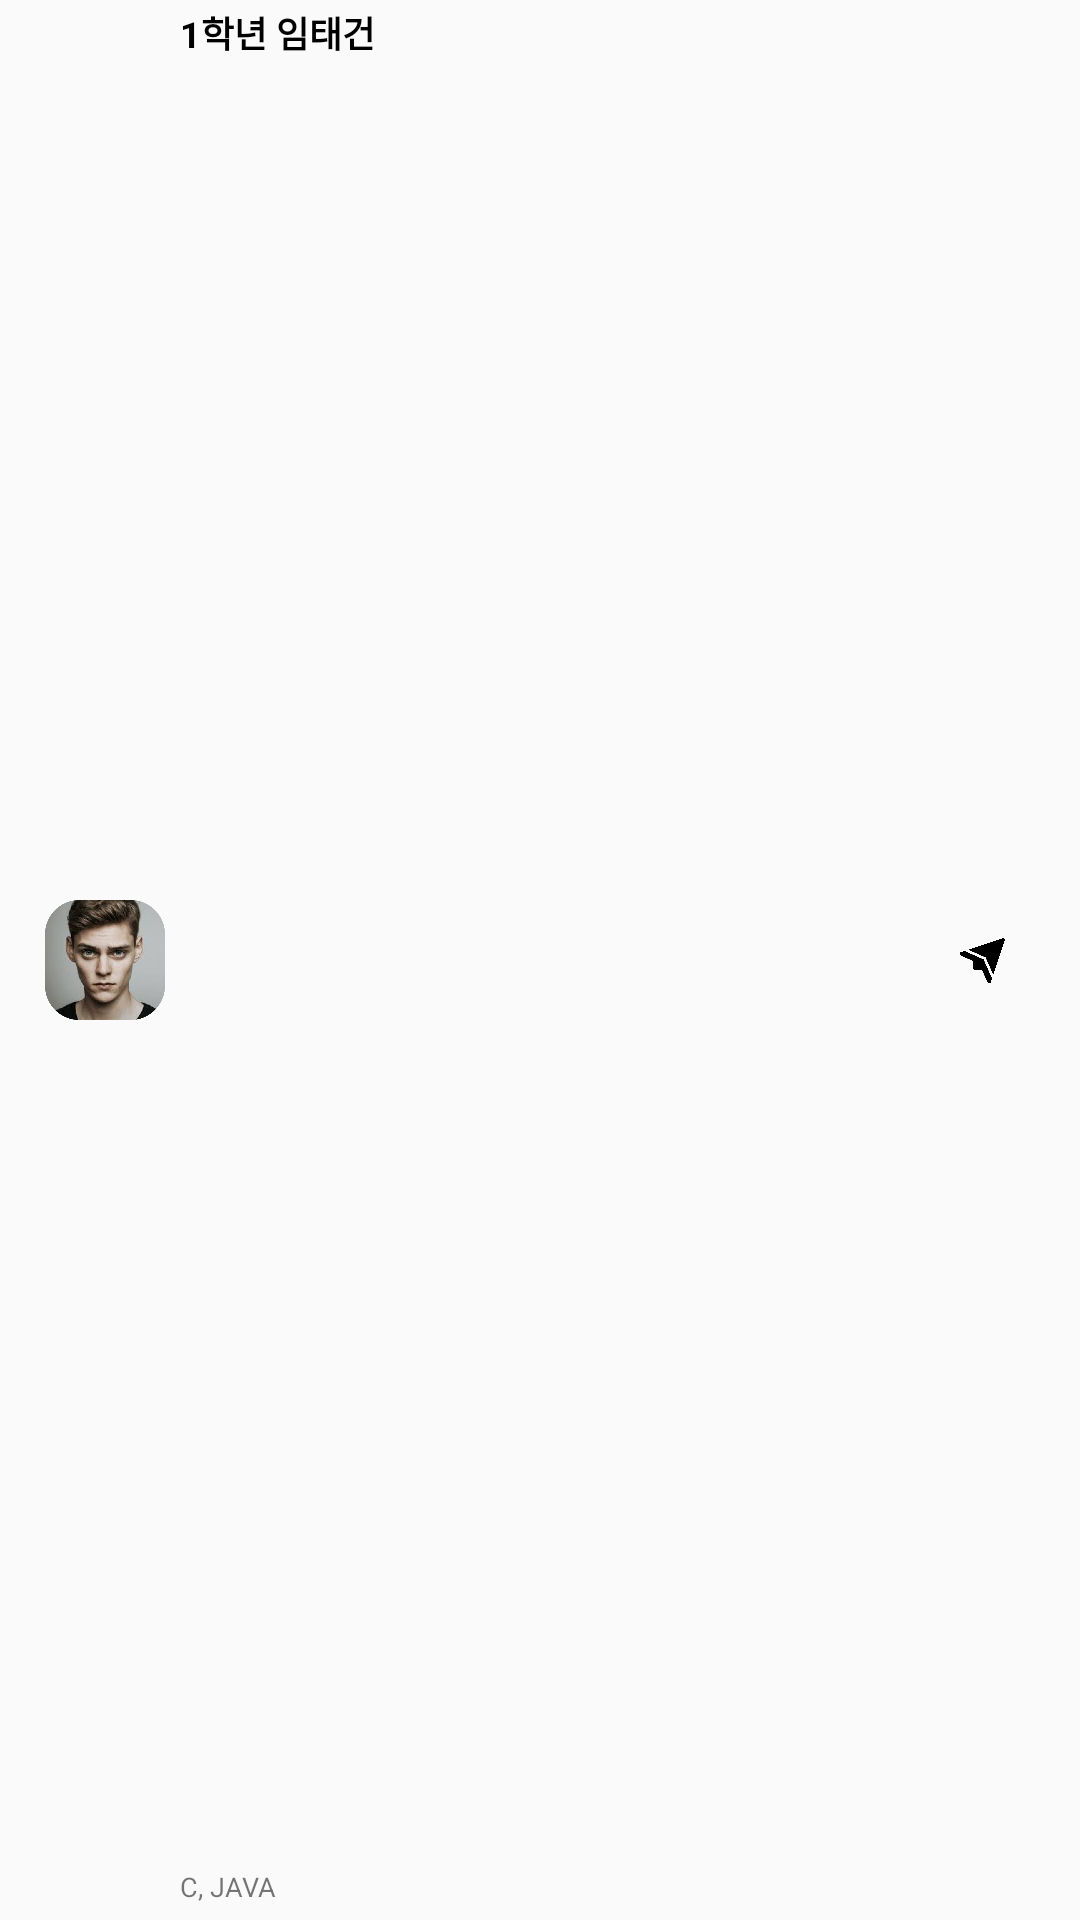

Icons on this 1080 × 1920 Android screen, each with its box as (x1, y1, x2, y2):
arrowimage: (960, 938, 1005, 983)
boy: (45, 900, 165, 1020)
